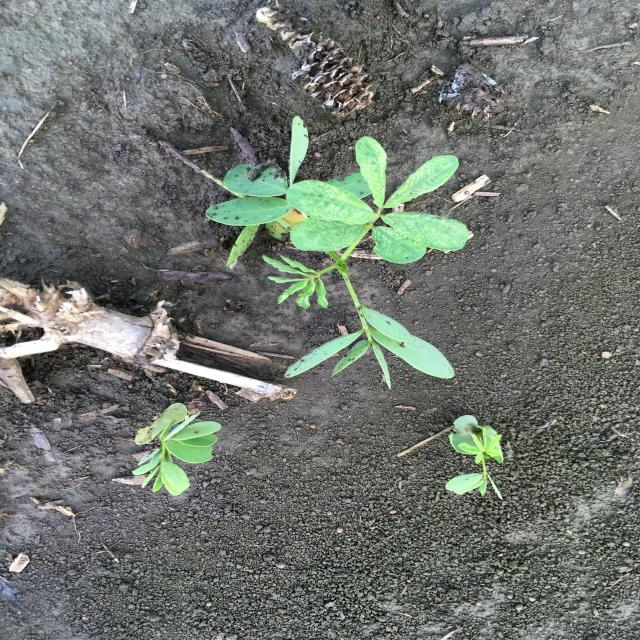Sicklepod: (203, 113, 474, 390), (126, 399, 225, 500), (445, 413, 510, 501)
